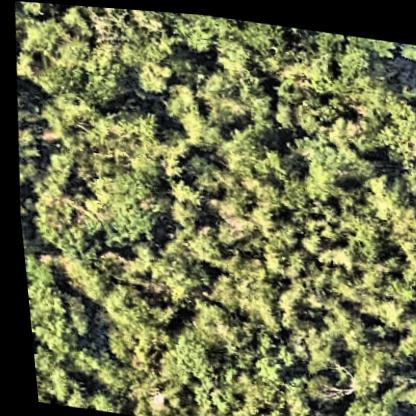tree-top: (28, 28, 131, 113), (19, 247, 89, 358), (22, 178, 112, 264), (78, 162, 162, 248), (83, 280, 165, 367), (152, 333, 235, 413), (202, 247, 279, 327), (291, 97, 364, 173), (300, 24, 399, 77), (353, 82, 416, 163), (226, 325, 296, 395), (135, 243, 211, 307), (209, 122, 286, 185), (304, 283, 374, 348), (100, 110, 176, 166), (208, 61, 280, 119), (169, 10, 244, 60), (35, 92, 98, 148), (26, 346, 77, 408), (342, 258, 411, 302), (11, 7, 68, 57), (336, 210, 390, 262), (297, 151, 350, 202), (355, 164, 404, 219), (384, 191, 416, 269), (332, 345, 384, 393), (328, 388, 411, 416), (168, 102, 216, 149), (32, 144, 78, 187), (238, 16, 287, 56), (265, 276, 304, 326), (158, 73, 201, 117), (176, 225, 223, 264), (385, 301, 416, 360), (136, 50, 177, 93), (64, 385, 120, 414), (270, 81, 302, 128), (12, 128, 42, 178), (241, 196, 274, 236), (157, 173, 197, 205), (295, 337, 330, 373), (186, 161, 221, 196), (297, 367, 330, 401), (164, 193, 194, 225), (291, 222, 321, 254), (270, 211, 299, 241), (268, 409, 351, 416)
